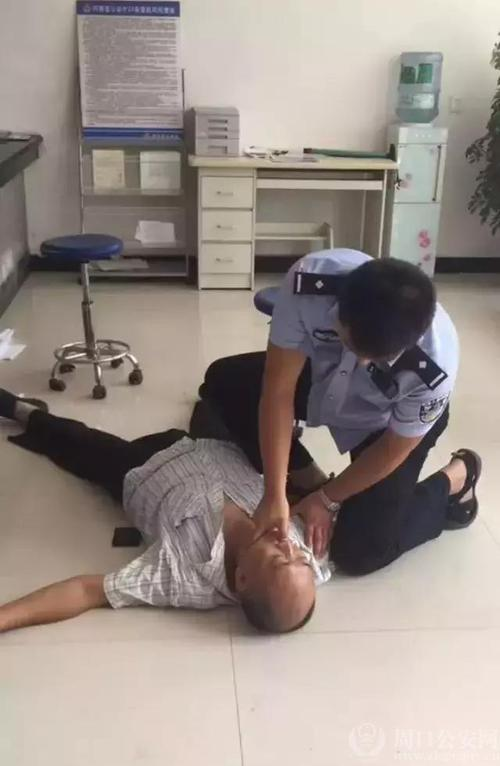bending: (200, 235, 483, 580)
down: (3, 352, 340, 639)
